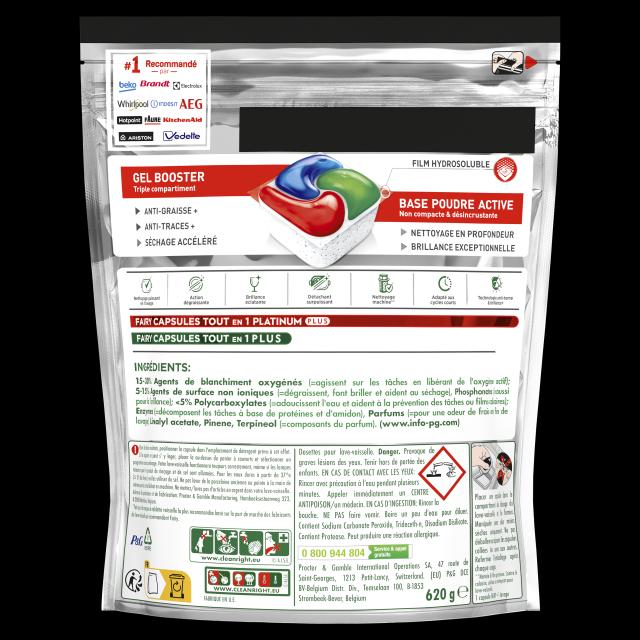GHS_Symbol_CORROSION: (418, 444, 466, 500)
